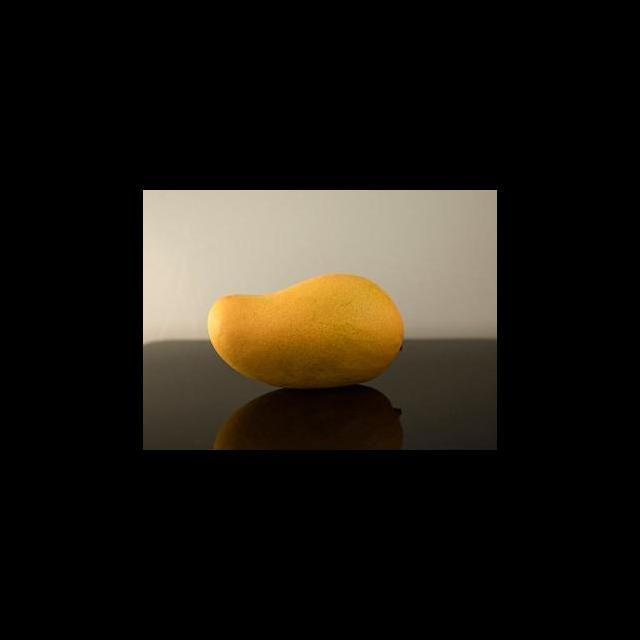mango: (206, 274, 404, 389)
